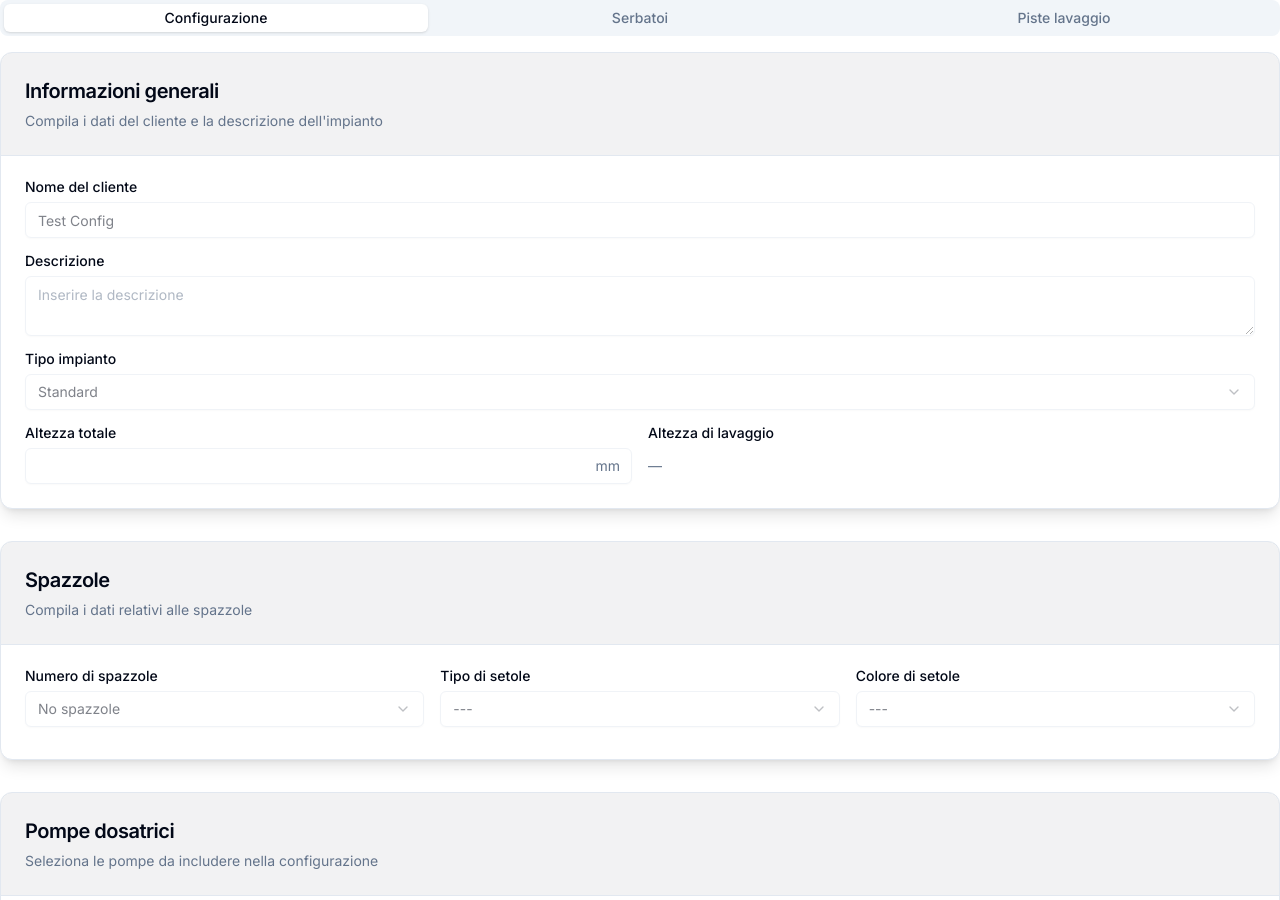
Test: FormContainer › Energy chain warning on bays tab › shows warning when supply_type is ENERGY_CHAIN and no bay has gantry with chain width
Click the tab "Piste lavaggio".
click(1064, 18)  # box [852,4,1276,32]
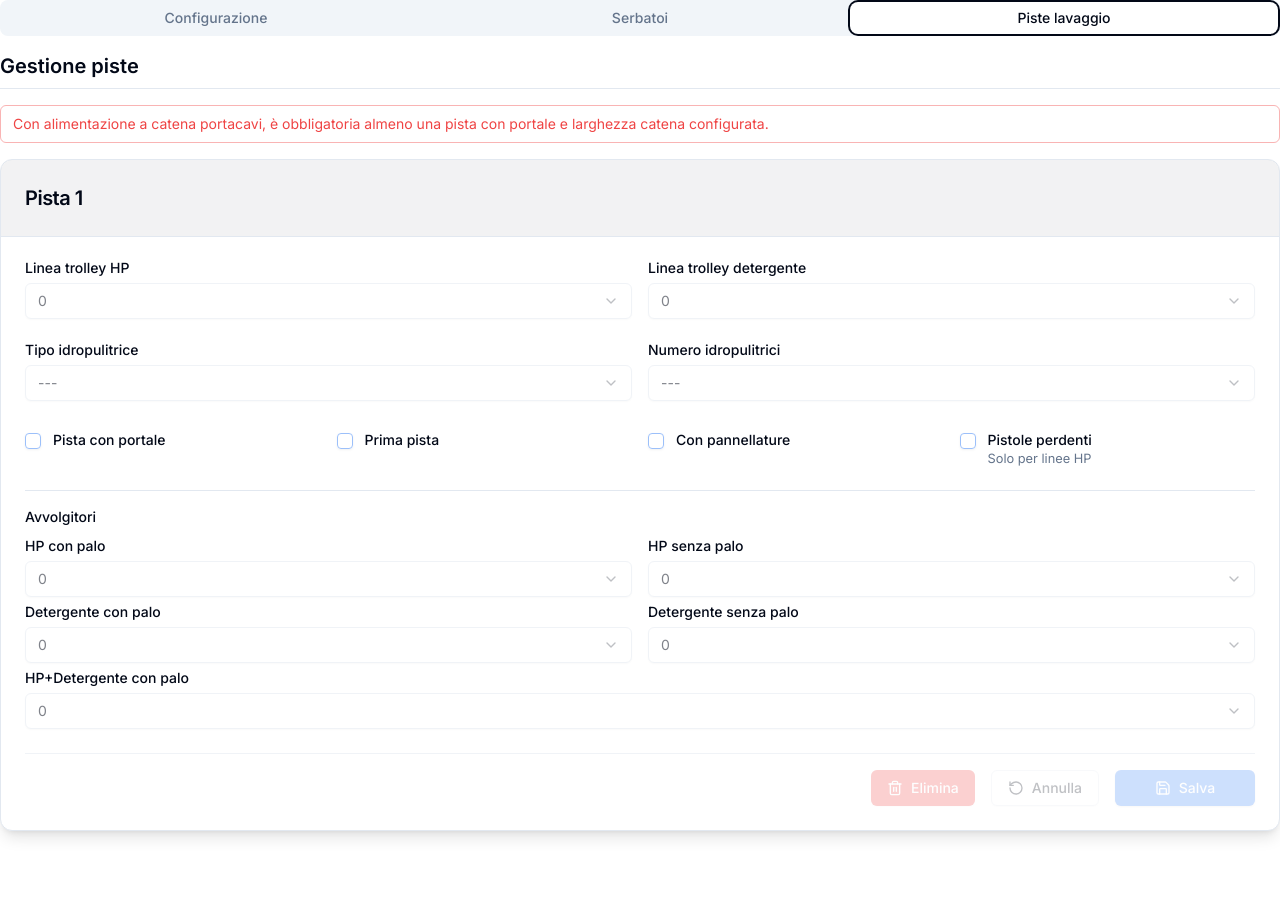
Now the text "Con alimentazione a catena portacavi, è obbligatoria almeno una pista con portale e larghezza catena configurata." is shown, box [13,115,769,132]
